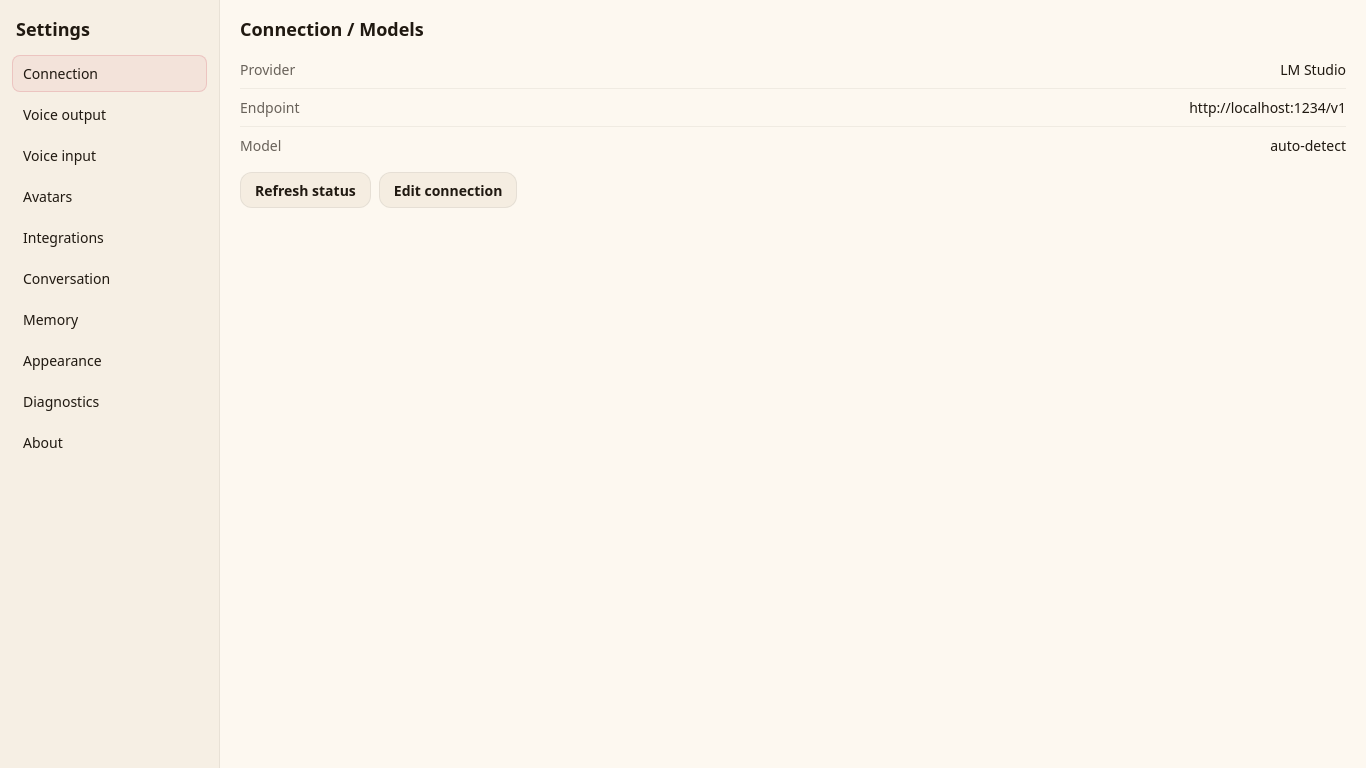
Test: Settings TTS section › persists selected Teto audio output device for renderer playback
Step 1. Click the button "Voice output" → (110, 114), box top-left (12, 96), bottom-right (207, 133)
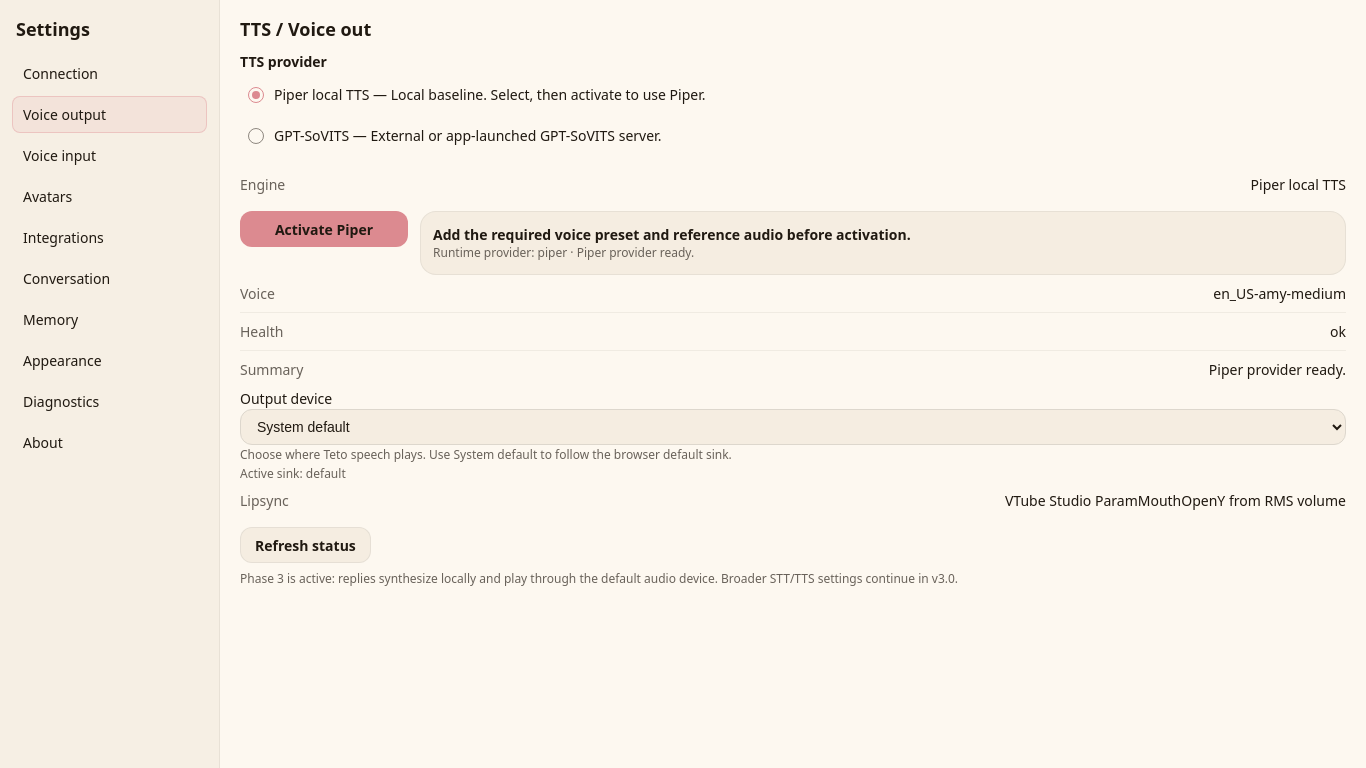
Step 2. Select "Desktop Speakers" in the dropdown labelled "Output device" → (793, 427), box top-left (240, 409), bottom-right (1346, 445)
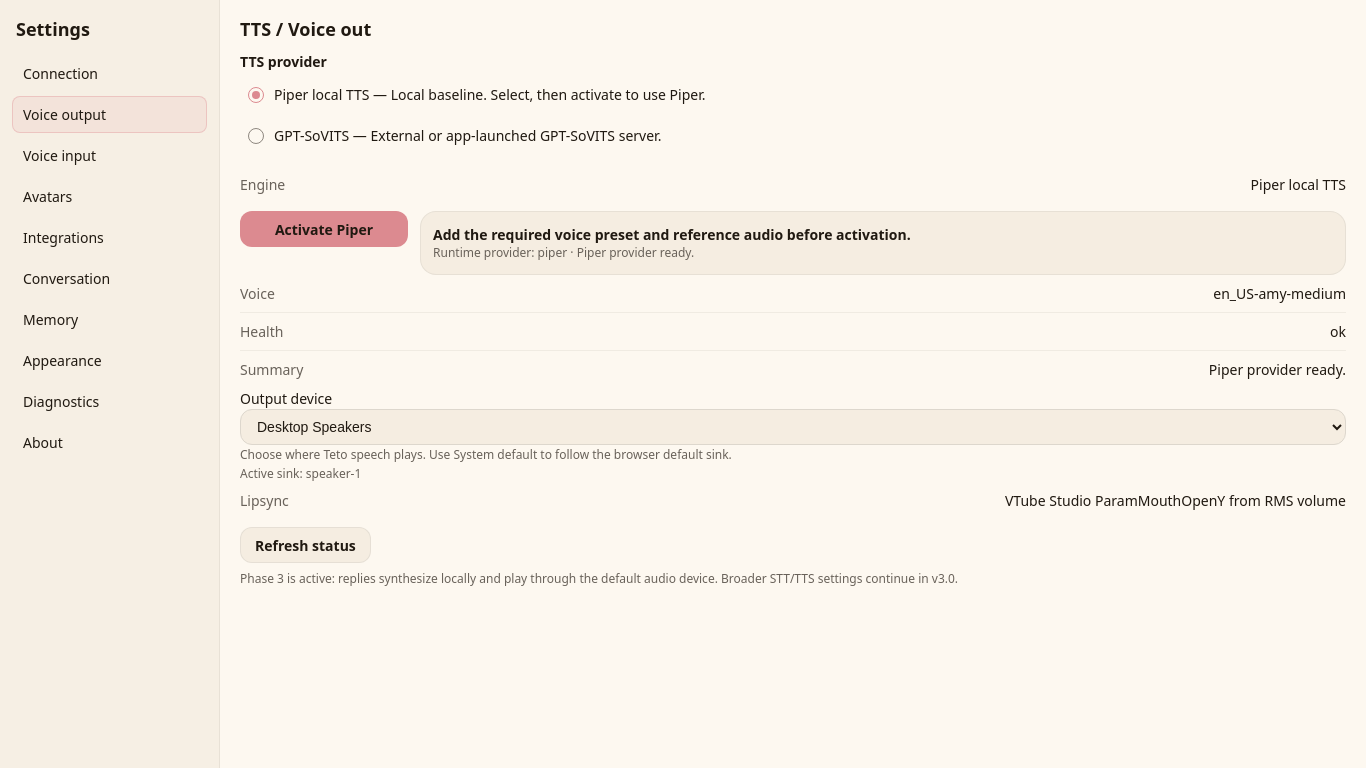
Result: the text "Active sink: speaker-1" is shown at top-left (240, 465), bottom-right (361, 482)
